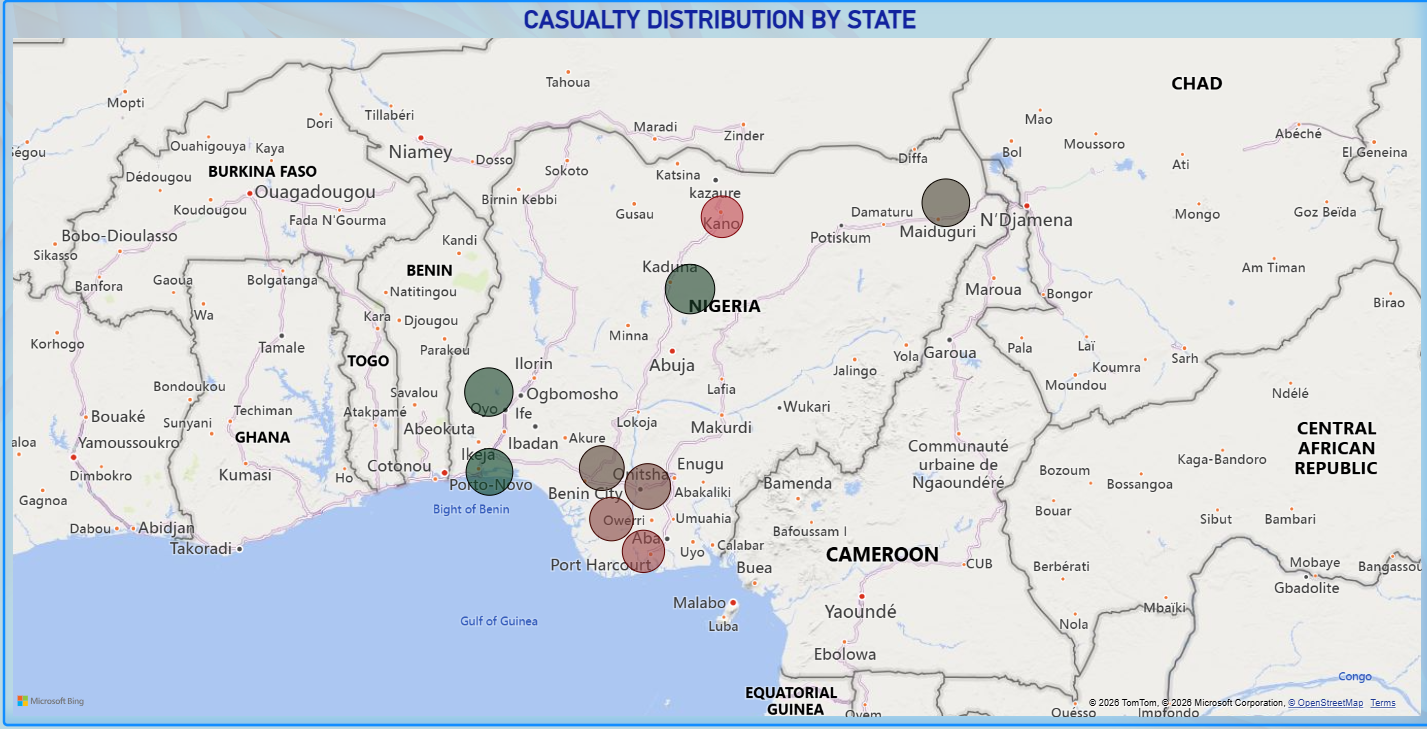

The dashboard page shown, as its layout file describes it:
{"tool":"powerbi","page":{"name":"Page 3","canvas":[1400,720],"ordinal":2},"visuals":[{"type":"map","title":"CASUALTY  DISTRIBUTION BY STATE","fields":{"Category":["Nigerian_Road_Accident_Data_Wit.State"],"Size":["Sum(Nigerian_Road_Accident_Data_Wit.Casualties)"]},"box":[13.2,7.3,1387.3,705.4],"z":1000}]}

Visuals, with their boxes in screenshot pixels (x1, y1, x2, y2), scaled from the page's 1400x720 canvas onto the 1427x729 screenshot:
"CASUALTY  DISTRIBUTION BY STATE" map: region(13, 7, 1426, 722)
